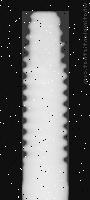BioHorizons: (22, 11, 69, 200)
